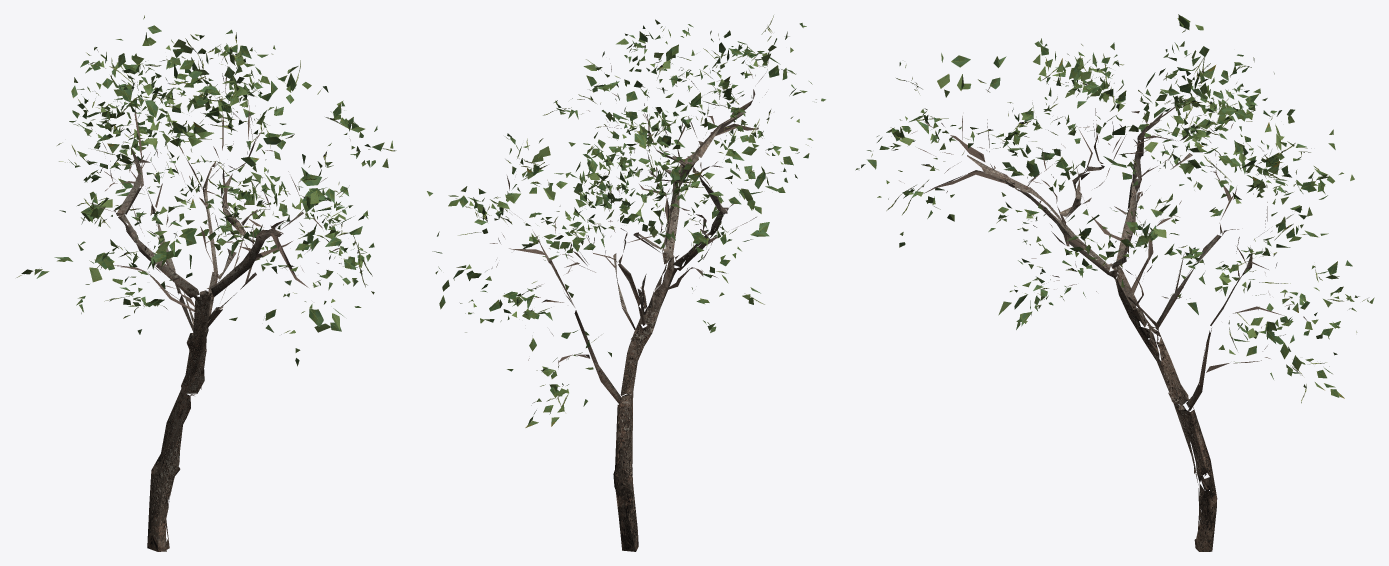
File: tree_small_02.glb
3 renders of one model, left to right at view 1: azimuth 30°, elevation 25°; view 2: azimuth 150°, elevation 25°; view 3: azimuth 270°, elevation 25°, orthographic. The views are drawn at different scales.
Parts seen in each view (by area): view 1: tree_small_02; view 2: tree_small_02; view 3: tree_small_02.
Part boxes in pixels (x1,y1,x2,y2): tree_small_02: (16,15,396,551); tree_small_02: (427,15,825,551); tree_small_02: (855,14,1374,551).
Bounding box in the file's own units: 2.9 × 4.54 × 4.19.
Materials: 3 (3 with a texture image).
